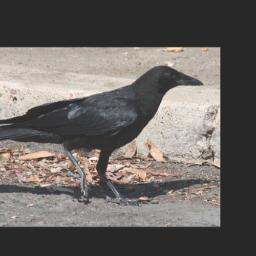Crow: (0, 63, 205, 204)
